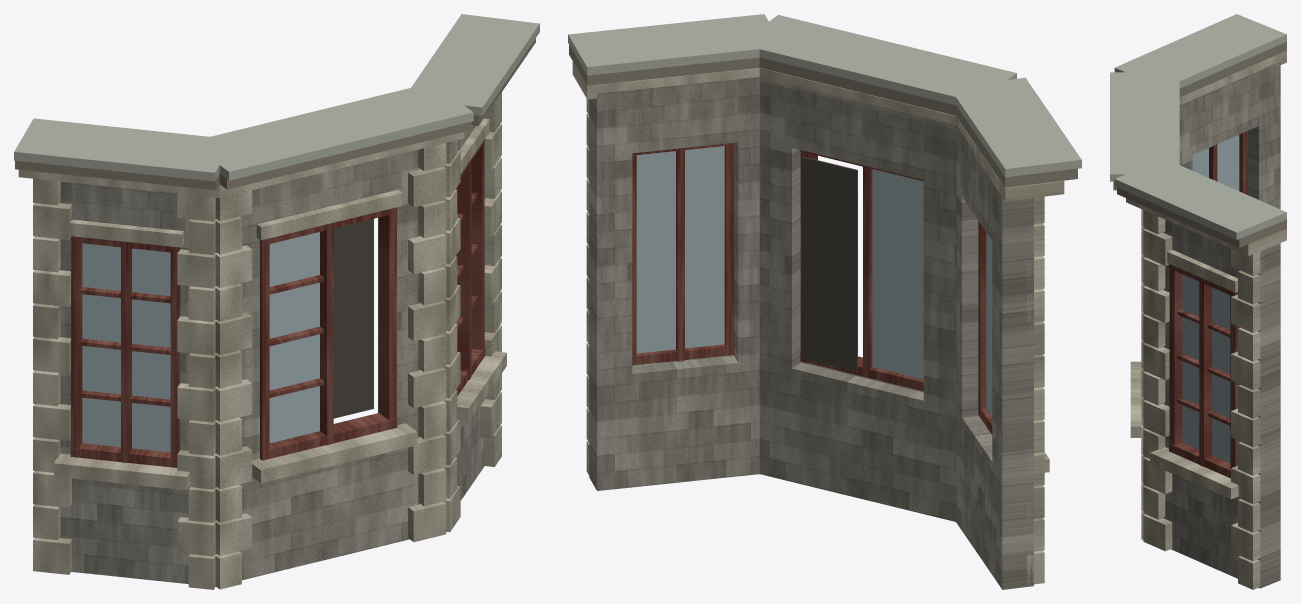
Rendered from xiasha-454-courtyard-faceted-bay-far.glb.
3 views of the same model, side by side, from view 1: azimuth 30°, elevation 25°; view 2: azimuth 150°, elevation 25°; view 3: azimuth 270°, elevation 25° (orthographic). The views are drawn at different scales.
Parts seen in each view (by area): view 1: 下沙街西段院内住宅南面折角凸窗与仿石隅饰; view 2: 下沙街西段院内住宅南面折角凸窗与仿石隅饰; view 3: 下沙街西段院内住宅南面折角凸窗与仿石隅饰.
Boxes of the visible parts, x1,y1,x2,y2 form: 下沙街西段院内住宅南面折角凸窗与仿石隅饰: [14, 14, 539, 589]; 下沙街西段院内住宅南面折角凸窗与仿石隅饰: [568, 14, 1081, 589]; 下沙街西段院内住宅南面折角凸窗与仿石隅饰: [1110, 14, 1286, 589].
Size of the model in its own units: 3.48 by 2.75 by 1.19.
Materials: 7 (3 with a texture image).
